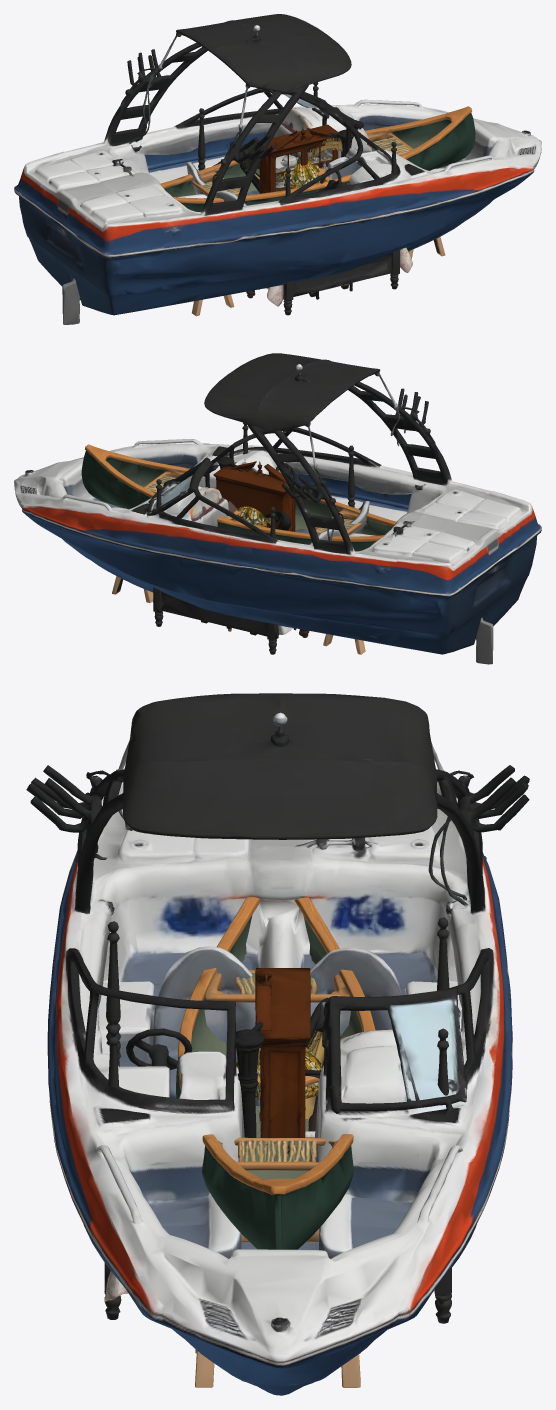
File: furniture.glb
3 renders of one model, top to bottom at view 1: azimuth 30°, elevation 25°; view 2: azimuth 150°, elevation 25°; view 3: azimuth 270°, elevation 25°, orthographic. The views are drawn at different scales.
Parts seen in each view (by area): view 1: boat, canoe, four-poster-bed, china-cabinet, harp, tiffany-lamp; view 2: boat, canoe, china-cabinet, four-poster-bed, harp, tiffany-lamp; view 3: boat, canoe, china-cabinet, four-poster-bed, harp.
Boxes of the visible parts, x1=… form: boat: x1=14, y1=14, x2=541, y2=324; canoe: x1=160, y1=106, x2=475, y2=316; four-poster-bed: x1=198, y1=82, x2=412, y2=315; china-cabinet: x1=256, y1=124, x2=338, y2=193; harp: x1=240, y1=129, x2=353, y2=192; tiffany-lamp: x1=276, y1=156, x2=320, y2=188; boat: x1=14, y1=353, x2=541, y2=664; canoe: x1=81, y1=444, x2=396, y2=654; china-cabinet: x1=213, y1=461, x2=295, y2=531; four-poster-bed: x1=152, y1=422, x2=355, y2=654; harp: x1=217, y1=457, x2=290, y2=530; tiffany-lamp: x1=237, y1=506, x2=266, y2=526; boat: x1=26, y1=693, x2=529, y2=1395; canoe: x1=176, y1=897, x2=375, y2=1387; china-cabinet: x1=255, y1=968, x2=310, y2=1154; four-poster-bed: x1=104, y1=917, x2=451, y2=1323; harp: x1=235, y1=997, x2=329, y2=1137.
Bounding box in the file's own units: 6.9 × 3.49 × 3.11.
15 materials, 15 textured.
